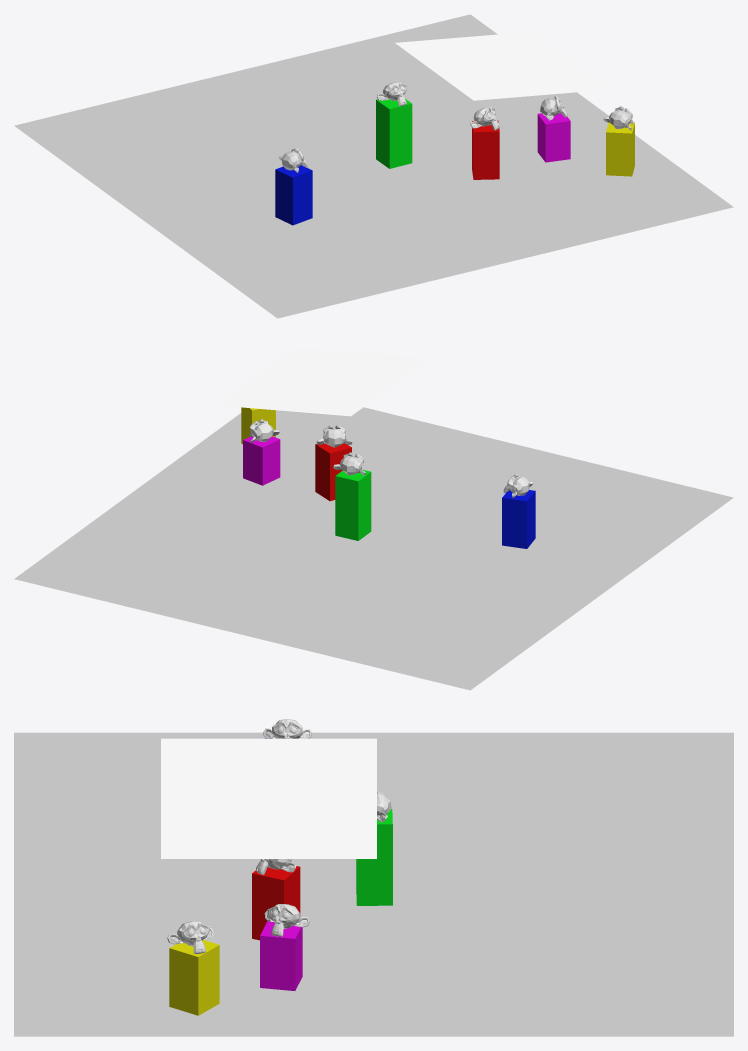
The model's file is dof.glb.
3 renders of one model, top to bottom at view 1: azimuth 30°, elevation 25°; view 2: azimuth 150°, elevation 25°; view 3: azimuth 270°, elevation 25°, orthographic. The views are drawn at different scales.
Parts seen in each view (by area): view 1: floor, ceiling, cuboid.001, cuboid.002, cuboid.004, cuboid, cuboid.003; view 2: floor, ceiling, cuboid.001, cuboid.002, cuboid.004, cuboid, cuboid.003; view 3: floor, ceiling, cuboid.003, cuboid.004, cuboid.001, cuboid, suzanne.003, suzanne.004, suzanne.002.
Part boxes in pixels (bbox=[...]): floor: bbox=[14, 14, 733, 318]; ceiling: bbox=[395, 32, 608, 100]; cuboid.001: bbox=[376, 99, 412, 168]; cuboid.002: bbox=[275, 165, 312, 225]; cuboid.004: bbox=[537, 113, 570, 162]; cuboid: bbox=[472, 120, 499, 179]; cuboid.003: bbox=[606, 122, 634, 176]; floor: bbox=[14, 407, 733, 690]; ceiling: bbox=[216, 347, 429, 416]; cuboid.001: bbox=[335, 470, 371, 540]; cuboid.002: bbox=[502, 490, 535, 548]; cuboid.004: bbox=[243, 436, 280, 485]; cuboid: bbox=[315, 443, 351, 501]; cuboid.003: bbox=[241, 407, 275, 444]; floor: bbox=[14, 732, 733, 1036]; ceiling: bbox=[161, 738, 376, 858]; cuboid.003: bbox=[169, 940, 219, 1015]; cuboid.004: bbox=[260, 921, 302, 990]; cuboid.001: bbox=[356, 809, 392, 905]; cuboid: bbox=[252, 866, 300, 940]; suzanne.003: bbox=[167, 921, 213, 953]; suzanne.004: bbox=[264, 904, 310, 936]; suzanne.002: bbox=[263, 719, 311, 738].
Bounding box in the file's own units: 10 × 2.46 × 10.
